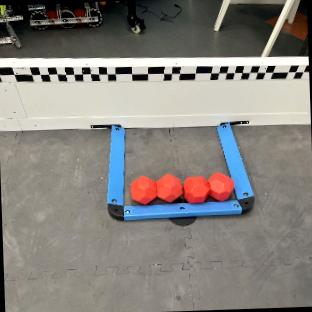Parking - Part: (107, 122, 253, 219)
V5_RED: (130, 172, 234, 205)
